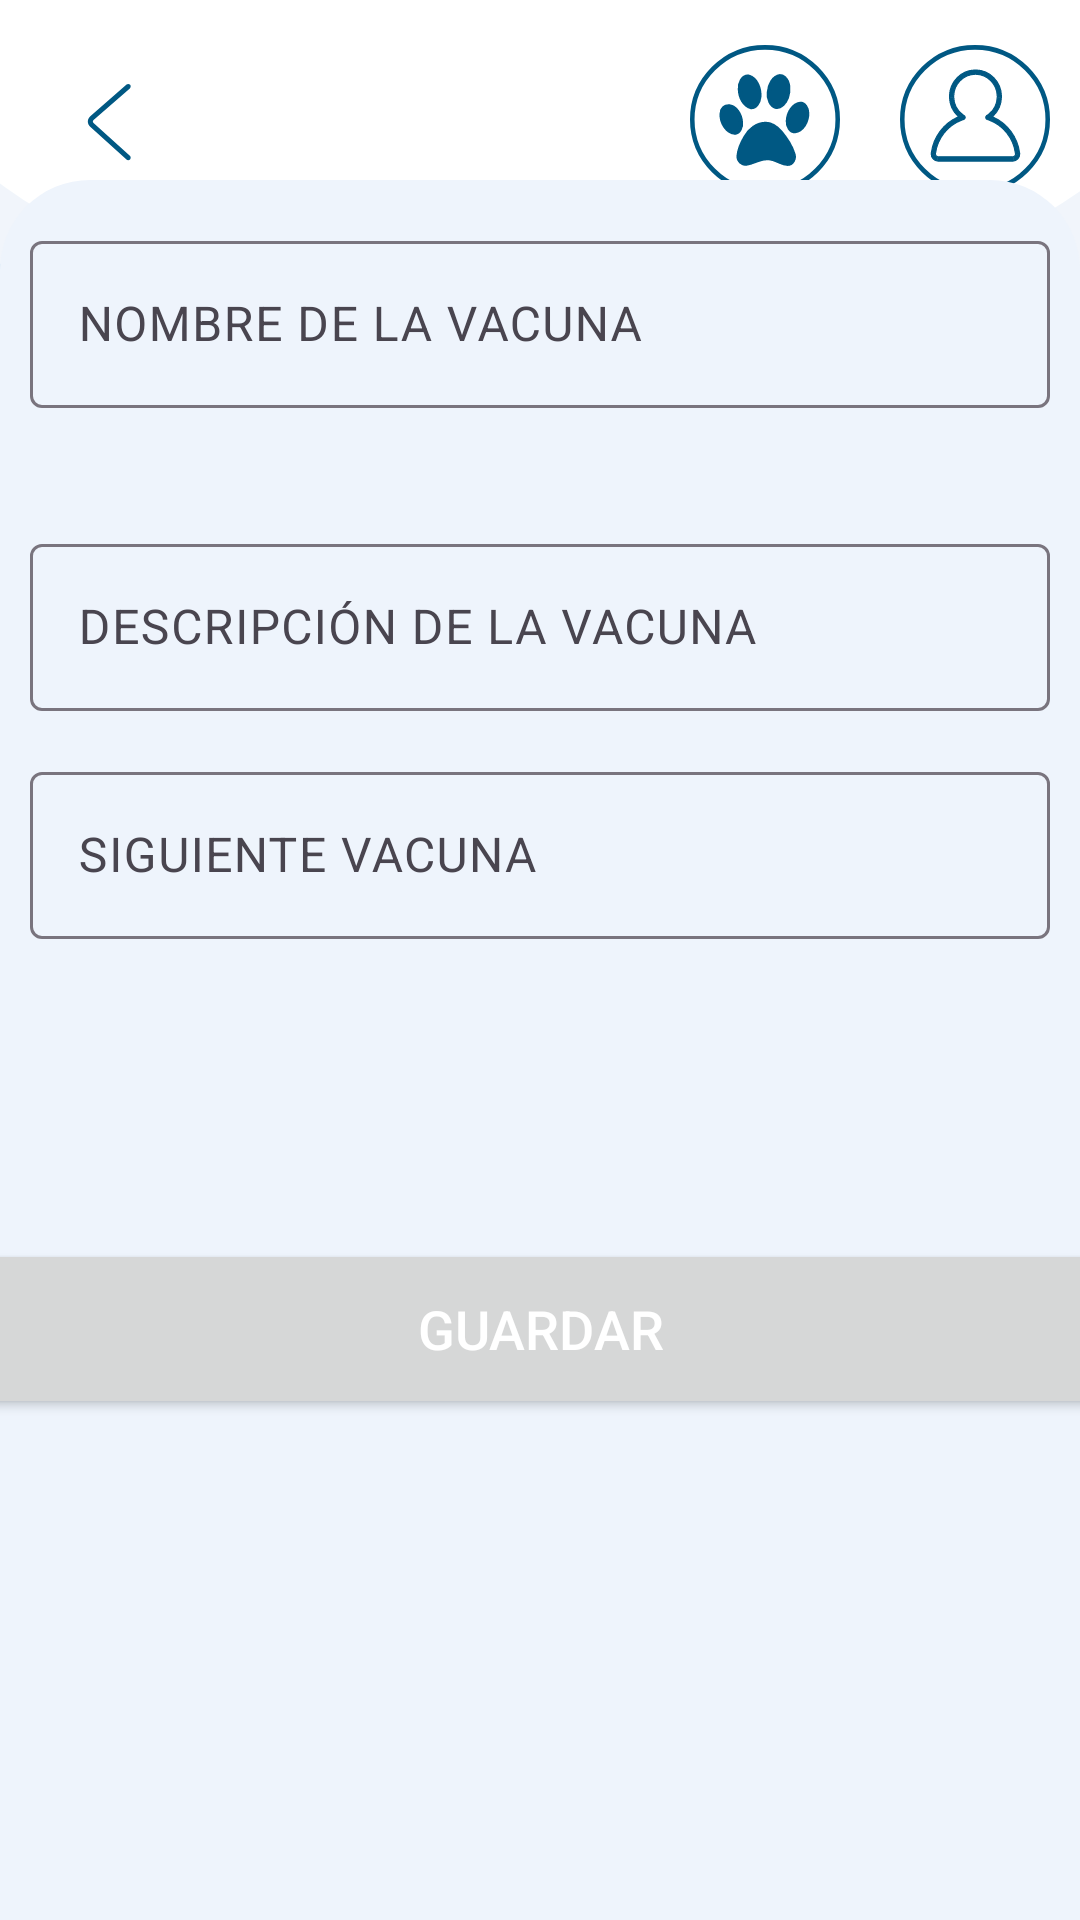

Where to tap for icons on this 1080w x 1920h app screen, as (x=x, y=y):
back arrow: (x=109, y=122)
huella: (x=765, y=112)
